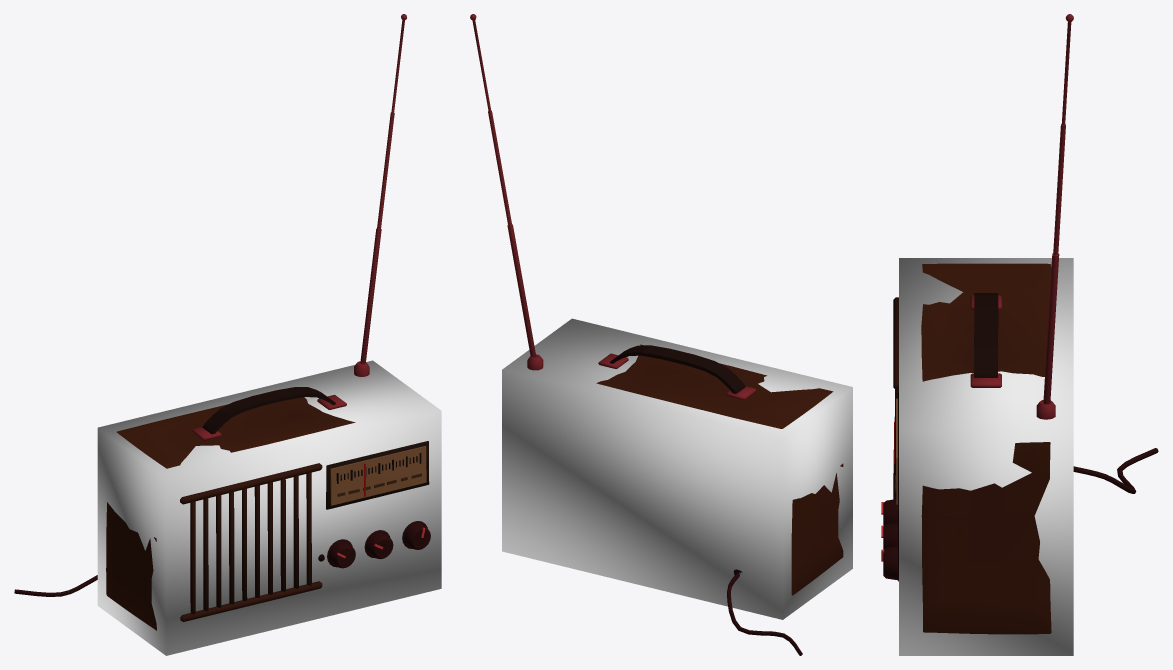
Rendered from radio.glb.
3 renders of one model, left to right at view 1: azimuth 30°, elevation 25°; view 2: azimuth 150°, elevation 25°; view 3: azimuth 270°, elevation 25°, orthographic. The views are drawn at different scales.
Visible parts, largest first — view 1: radio-colcaja, caja, herrajes, mando_brillo, mando_volumen, mando_sensibilidad; view 2: radio-colcaja, caja, herrajes; view 3: radio-colcaja, caja, herrajes, mando_sensibilidad, mando_brillo.
Part boxes in pixels (bbox=[...]): radio-colcaja: bbox=[97, 360, 441, 655]; caja: bbox=[106, 387, 429, 630]; herrajes: bbox=[14, 14, 406, 596]; mando_brillo: bbox=[364, 530, 393, 559]; mando_volumen: bbox=[327, 539, 355, 568]; mando_sensibilidad: bbox=[402, 521, 430, 549]; radio-colcaja: bbox=[502, 318, 852, 619]; caja: bbox=[596, 344, 843, 595]; herrajes: bbox=[470, 14, 802, 655]; radio-colcaja: bbox=[899, 258, 1073, 655]; caja: bbox=[893, 263, 1051, 634]; herrajes: bbox=[970, 14, 1158, 493]; mando_sensibilidad: bbox=[881, 544, 898, 581]; mando_brillo: bbox=[881, 520, 898, 549].
Bounding box in the file's own units: 0.5739 × 0.7919 × 0.3012.
